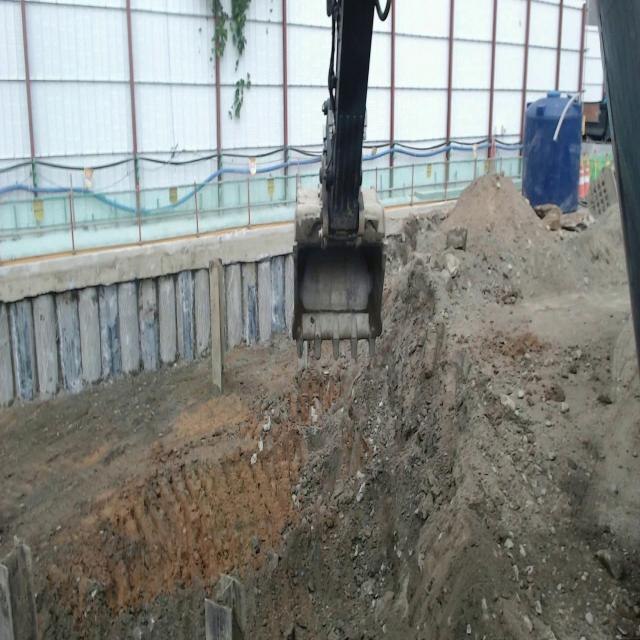cement: (0, 222, 294, 302)
red-sand: (0, 176, 640, 639)
